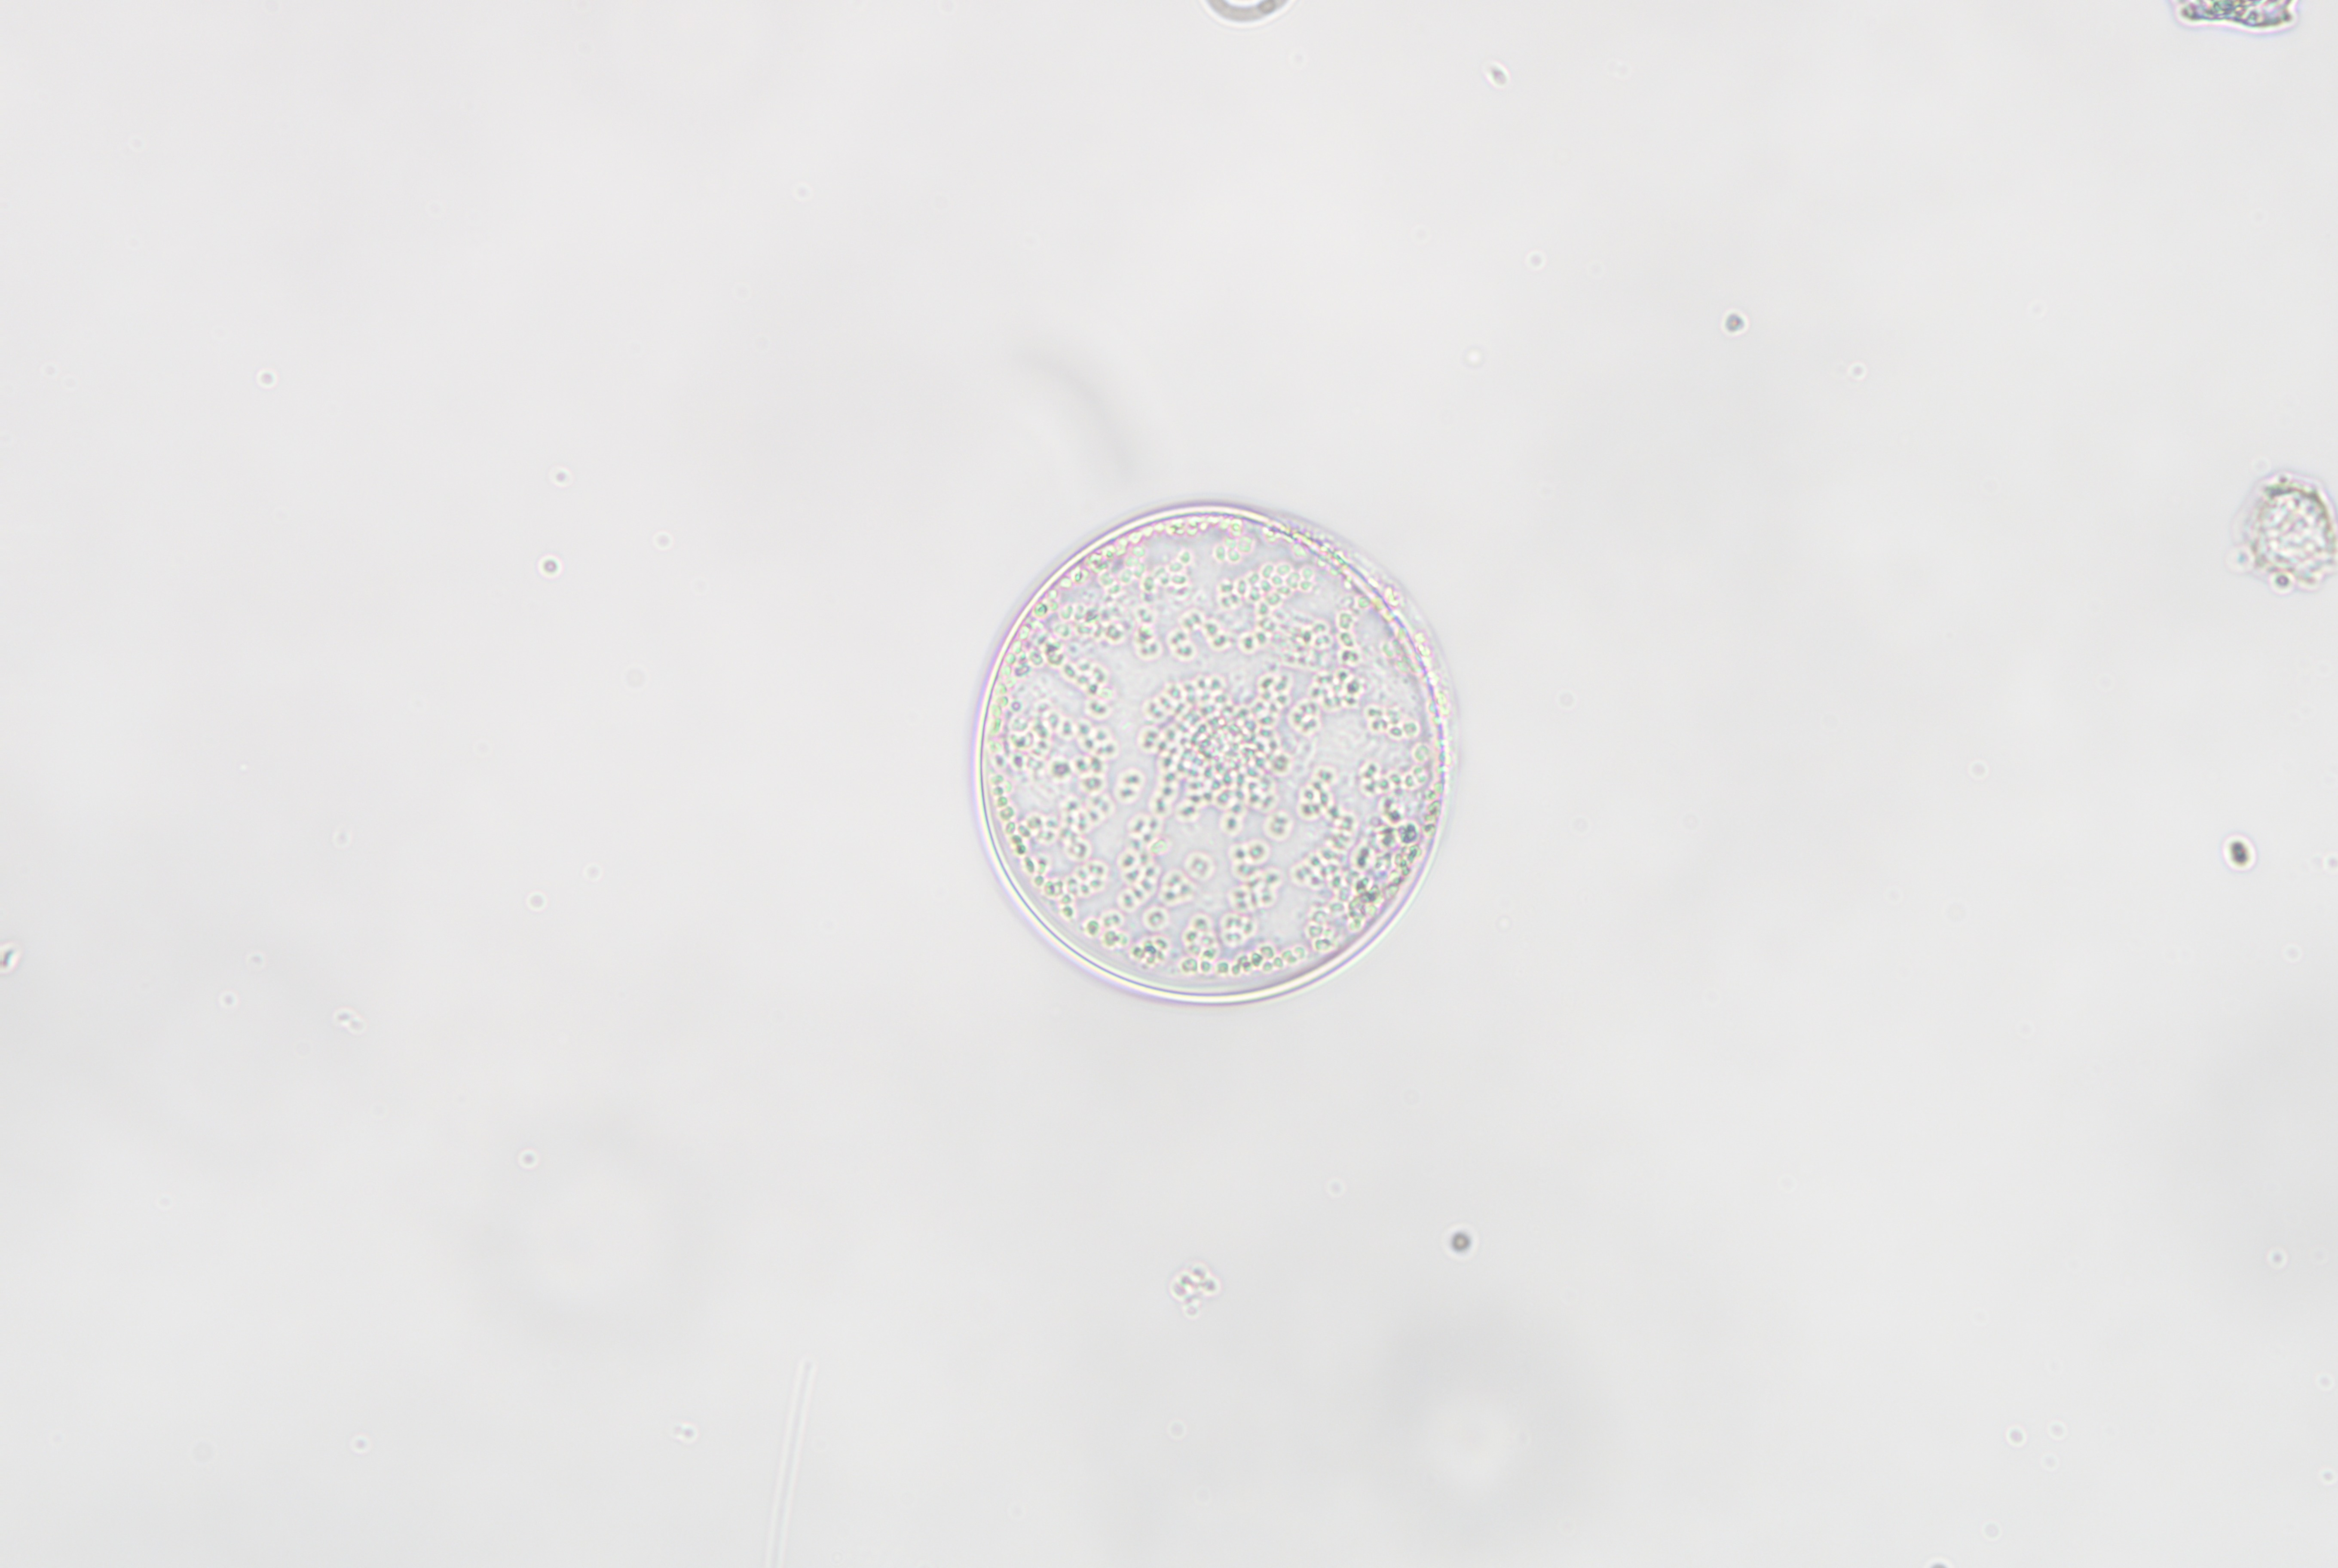coscinodiscus: (975, 500, 1447, 1008)
